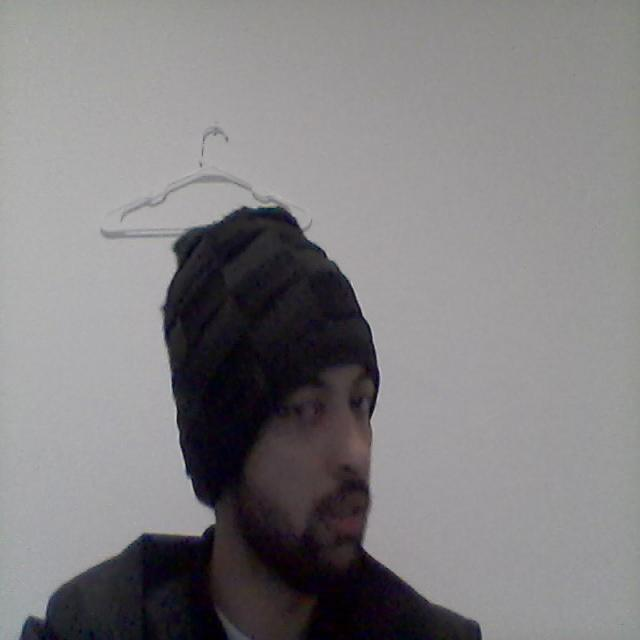cap: (127, 192, 402, 479)
